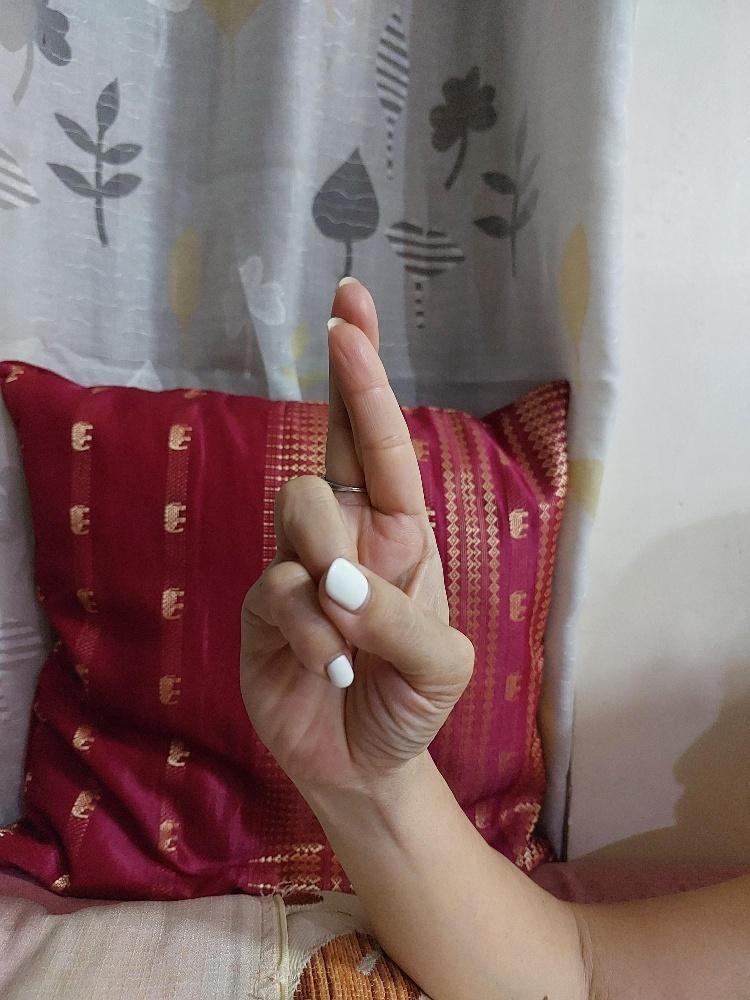r: (233, 270, 480, 789)
